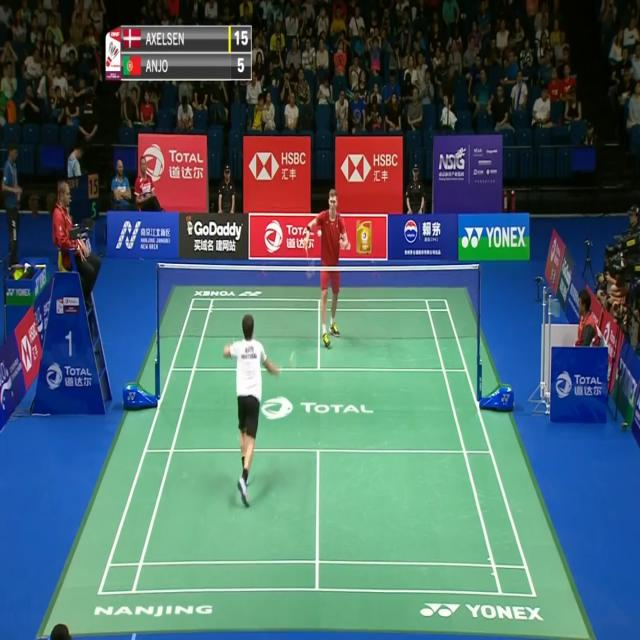Player1: (224, 311, 280, 510)
Player2: (305, 186, 352, 348)
